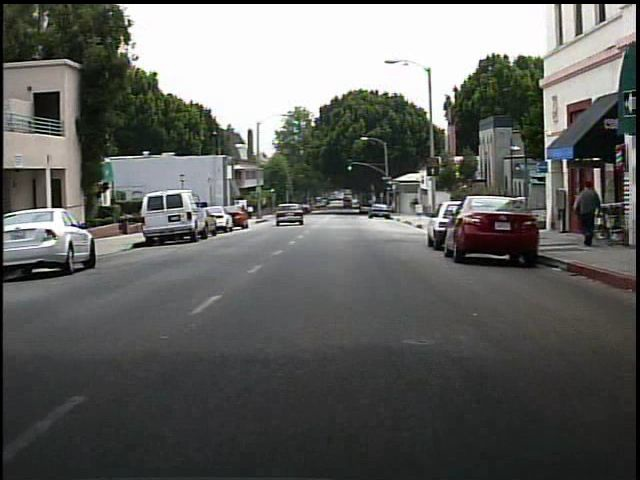person: (571, 180, 605, 248)
